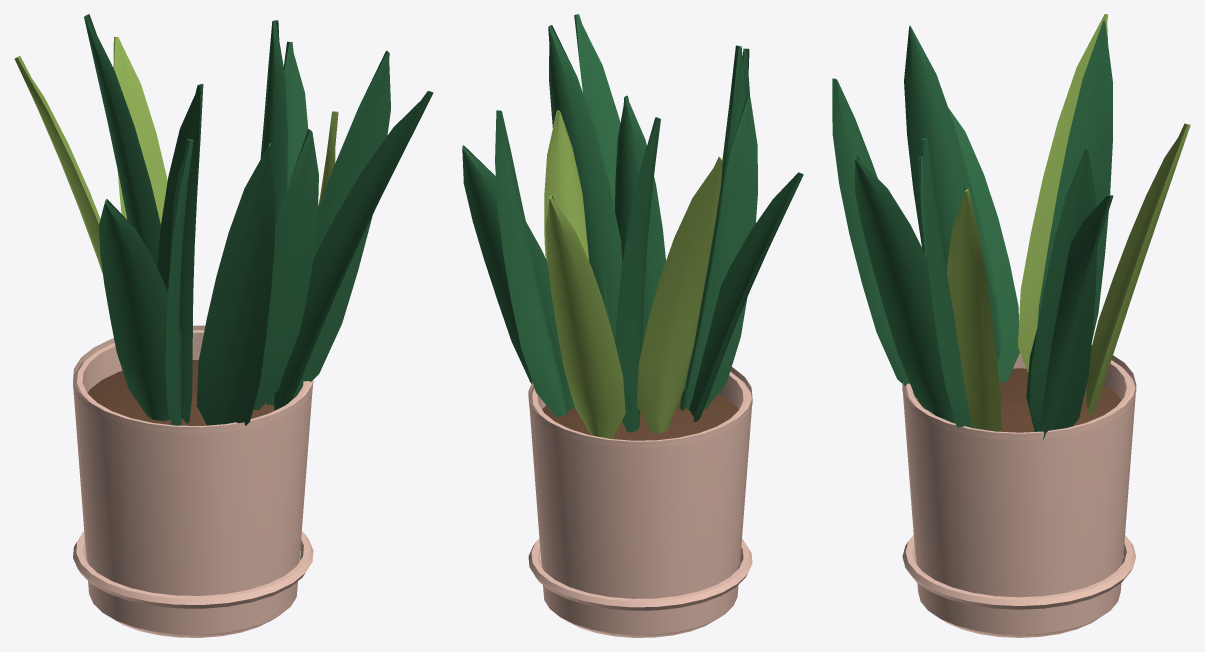
The model's file is plant_snake.glb.
The picture shows the model from 3 angles, left to right: view 1: azimuth 30°, elevation 25°; view 2: azimuth 150°, elevation 25°; view 3: azimuth 270°, elevation 25°; orthographic projection. The views are drawn at different scales.
Parts seen in each view (by area): view 1: leaf_snake, pot, leaf_snake_light, soil; view 2: leaf_snake, pot, leaf_snake_light, soil; view 3: leaf_snake, pot, leaf_snake_light, soil.
Part boxes in pixels (x1,y1,x2,y2): leaf_snake: (84, 14, 433, 425); pot: (73, 325, 313, 637); leaf_snake_light: (14, 37, 338, 273); soil: (87, 360, 297, 425); leaf_snake: (462, 14, 803, 432); pot: (528, 367, 752, 637); leaf_snake_light: (544, 110, 722, 438); soil: (542, 394, 738, 440); leaf_snake: (832, 20, 1113, 439); pot: (902, 346, 1136, 637); leaf_snake_light: (946, 14, 1190, 431); soil: (917, 368, 1121, 432).
Size of the model in its own units: 0.4152 by 0.7773 by 0.4598.
